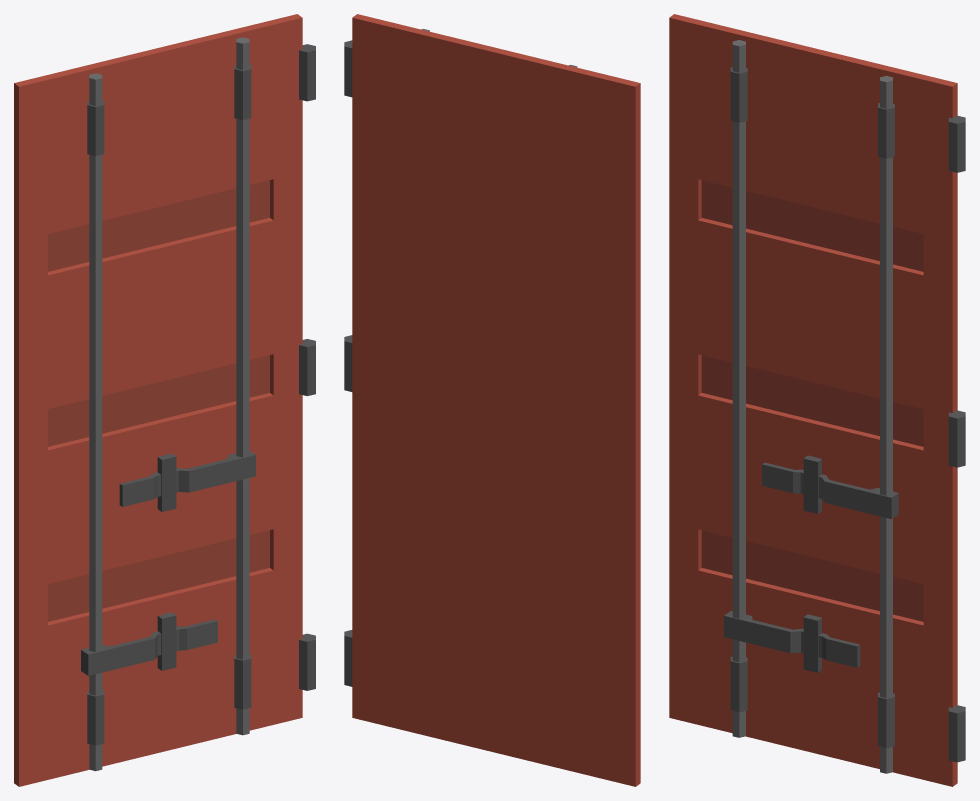
Rendered from SM_Props_ShippingContainer_Door1_R.glb.
3 views of the same model, side by side, from view 1: azimuth 30°, elevation 25°; view 2: azimuth 150°, elevation 25°; view 3: azimuth 330°, elevation 25° (orthographic).
Parts seen in each view (by area): view 1: SM_Props_ShippingContainer_Door1_R; view 2: SM_Props_ShippingContainer_Door1_R; view 3: SM_Props_ShippingContainer_Door1_R.
Boxes of the visible parts, left/top/right/bottom form: SM_Props_ShippingContainer_Door1_R: left=14, top=14, right=315, bottom=786; SM_Props_ShippingContainer_Door1_R: left=344, top=14, right=640, bottom=786; SM_Props_ShippingContainer_Door1_R: left=669, top=14, right=965, bottom=786.
Size of the model in its own units: 1.17 by 2.63 by 0.0859.
1 material, 1 textured.
